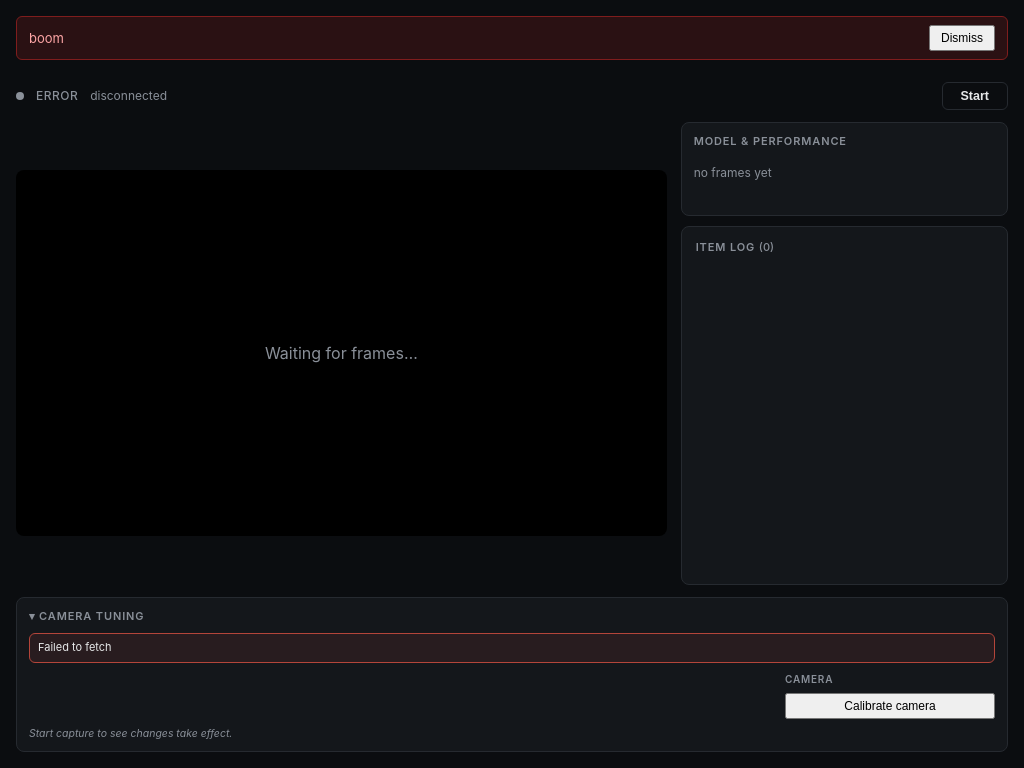
Test: LiveView › dismisses the error banner
Click the button with aria-label "Dismiss error": point(962, 38) [929,25,995,51]
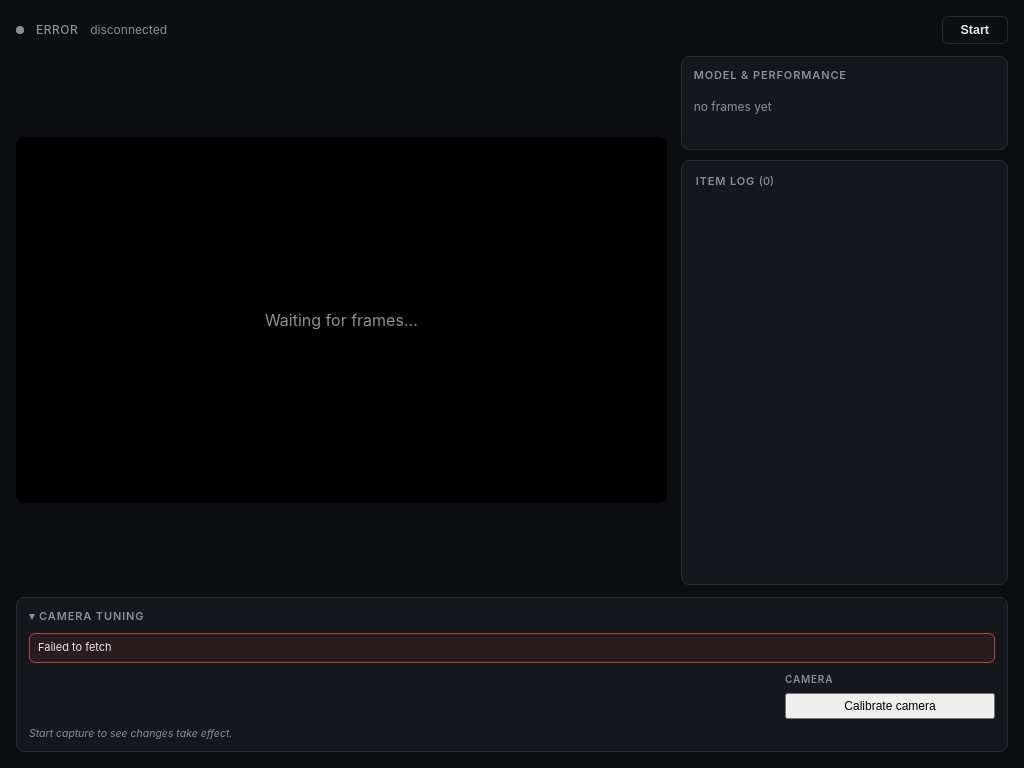
Check: the message with test id "live-error" is gone
